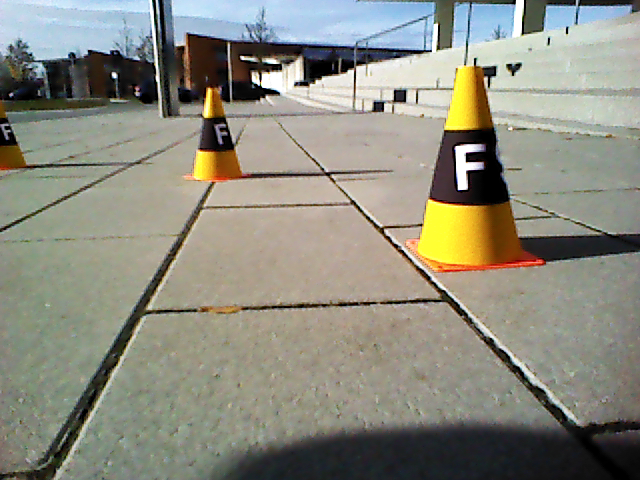yellowcone: (426, 66, 520, 262), (193, 87, 240, 180), (1, 97, 27, 166)
